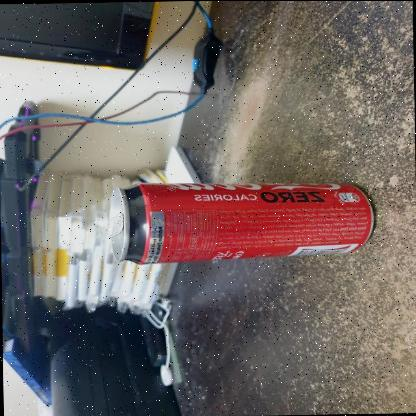Can: (100, 166, 387, 274)
